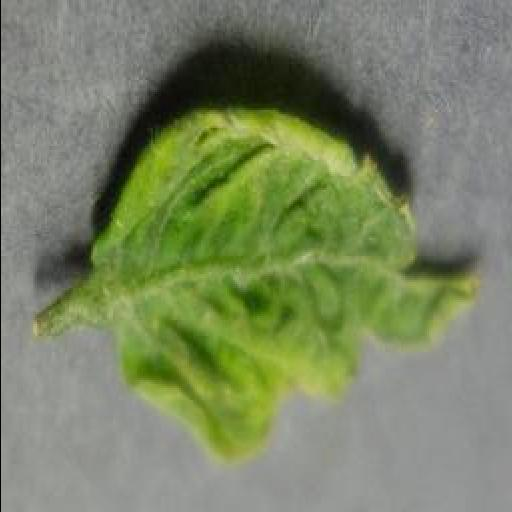disease_tomato: (90, 102, 486, 464)
